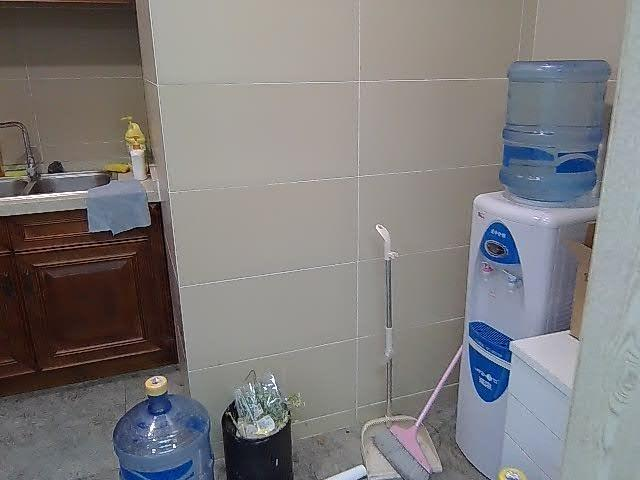Dispenser: (451, 59, 610, 479)
